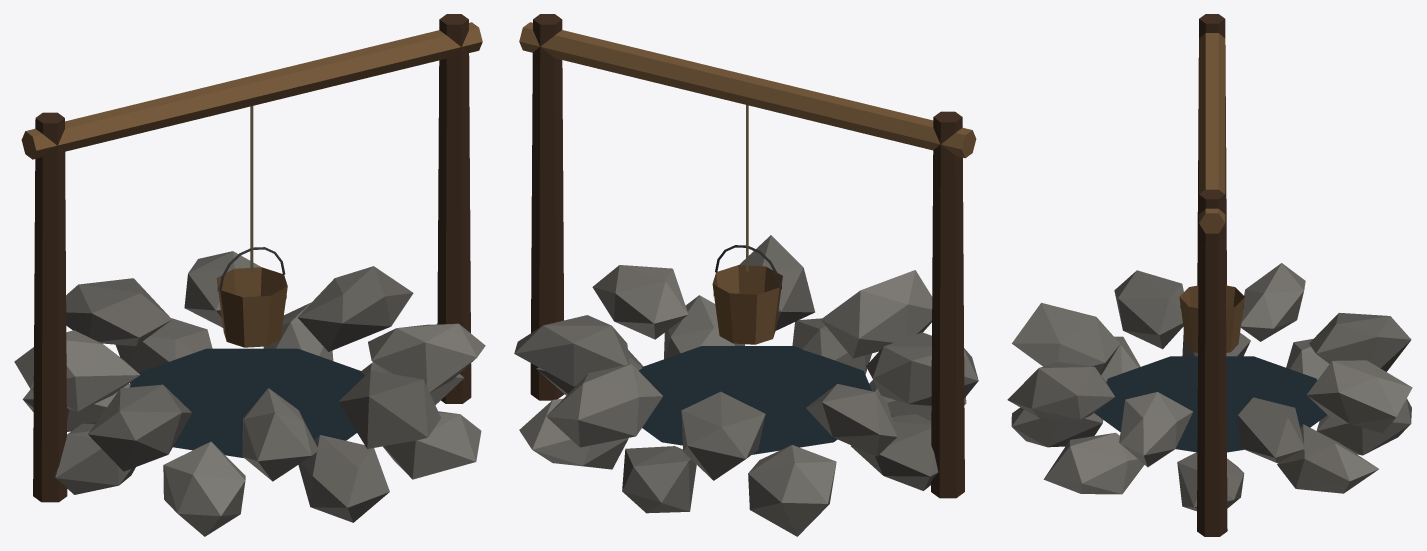
The model's file is b8_broend.glb.
3 views of the same model, side by side, from view 1: azimuth 30°, elevation 25°; view 2: azimuth 150°, elevation 25°; view 3: azimuth 270°, elevation 25° (orthographic). The views are drawn at different scales.
Parts seen in each view (by area): view 1: B8_broend; view 2: B8_broend; view 3: B8_broend.
Part boxes in pixels (box(x1,y1,x2,y2)): B8_broend: box(14, 14, 485, 536); B8_broend: box(514, 14, 978, 536); B8_broend: box(1007, 14, 1412, 536).
Size of the model in its own units: 2.1 by 1.74 by 1.85.
